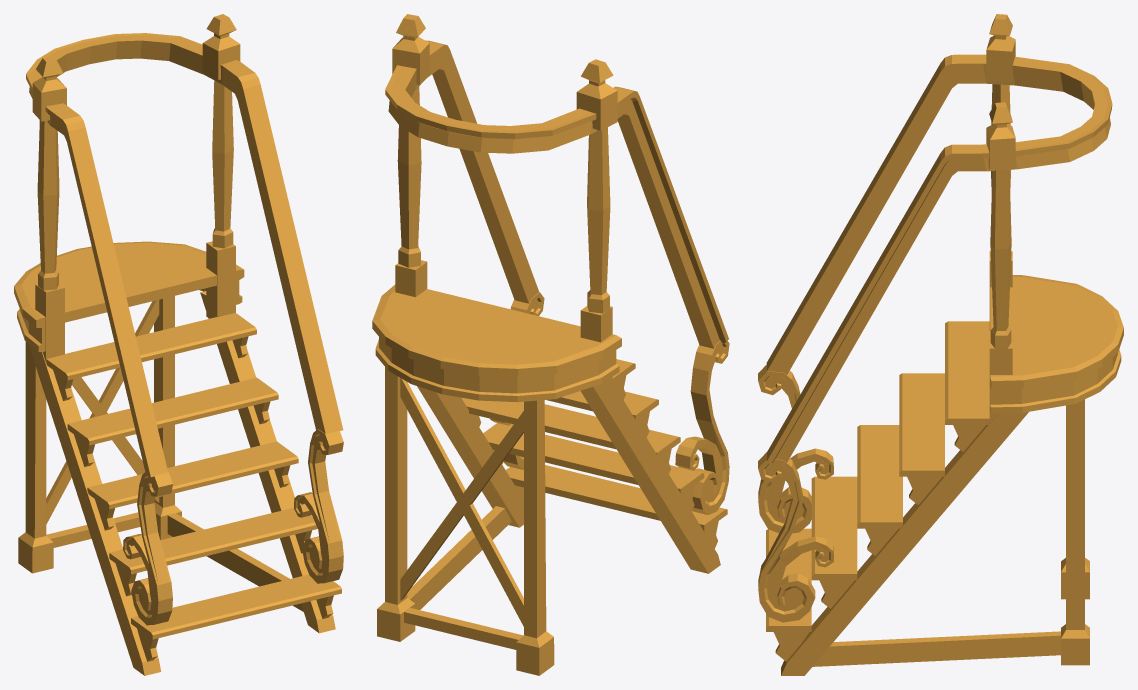
File: SM_Steps_Library_Solo.fbx
3 views of the same model, side by side, from view 1: azimuth 30°, elevation 25°; view 2: azimuth 150°, elevation 25°; view 3: azimuth 270°, elevation 25° (orthographic). The views are drawn at different scales.
Visible parts, largest first — view 1: steps-library-solo; view 2: steps-library-solo; view 3: steps-library-solo.
Part boxes in pixels (x1,y1,x2,y2): steps-library-solo: (14,14,343,675); steps-library-solo: (372,14,729,675); steps-library-solo: (758,14,1123,675).
Bounding box in the file's own units: 0.9436 × 2.33 × 1.37.
